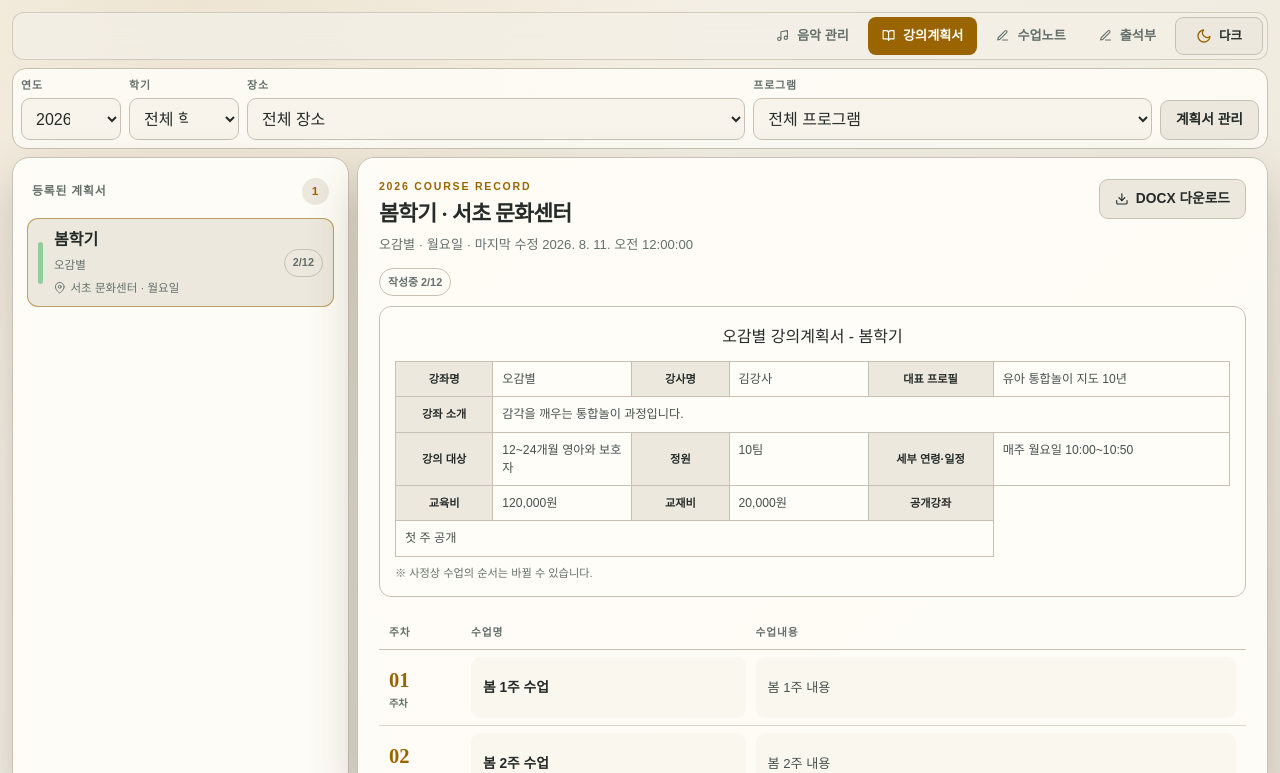
Test: LessonPlans › links a matching common note and previews its shared weeks
Expected: the heading "봄학기 · 서초 문화센터" is shown, x1=379 y1=202 x2=571 y2=226
Click the button "계획서 관리". click: (1209, 120)
box: x1=1160 y1=100 x2=1259 y2=140
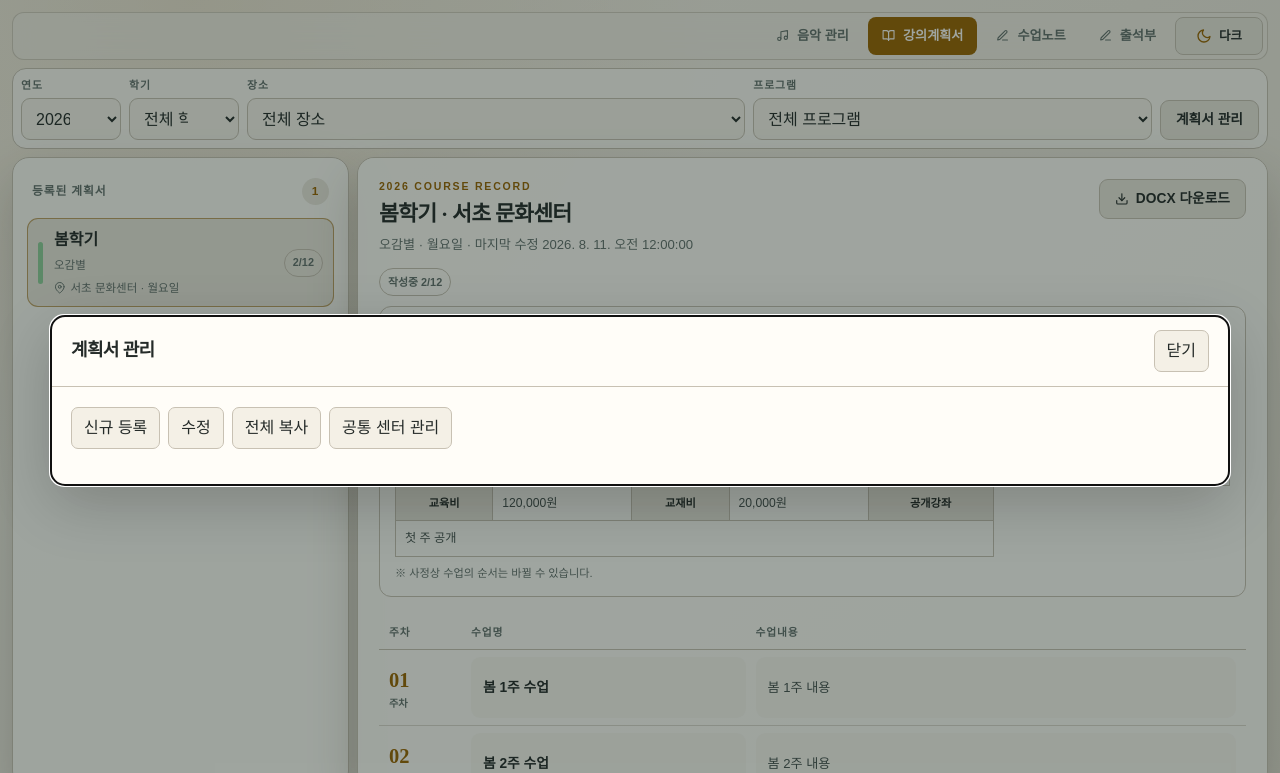
Click the button "수정". click: (196, 428)
box: x1=168 y1=406 x2=224 y2=448
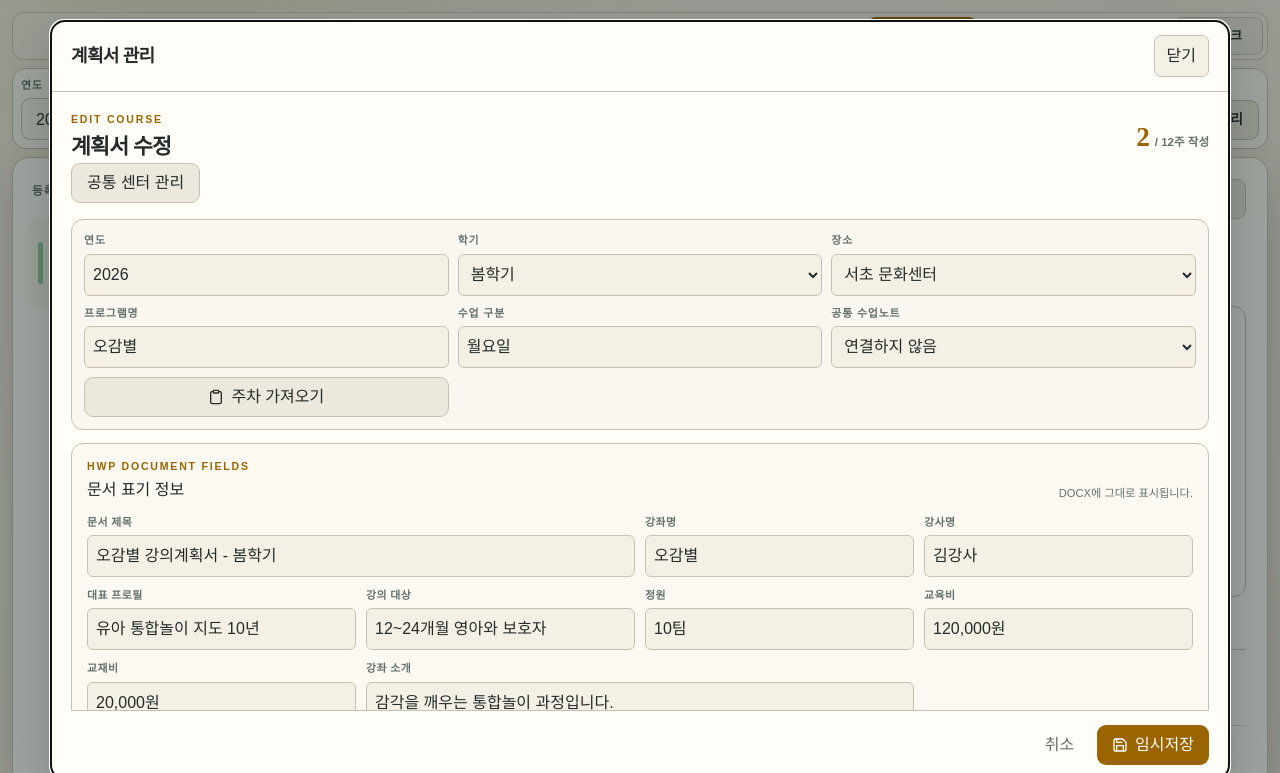
Select "2026년 봄학기 · 오감별" in the dropdown named "계획서 공통 수업노트". click: (1014, 347)
box: x1=831 y1=326 x2=1196 y2=368
(page scrolled)
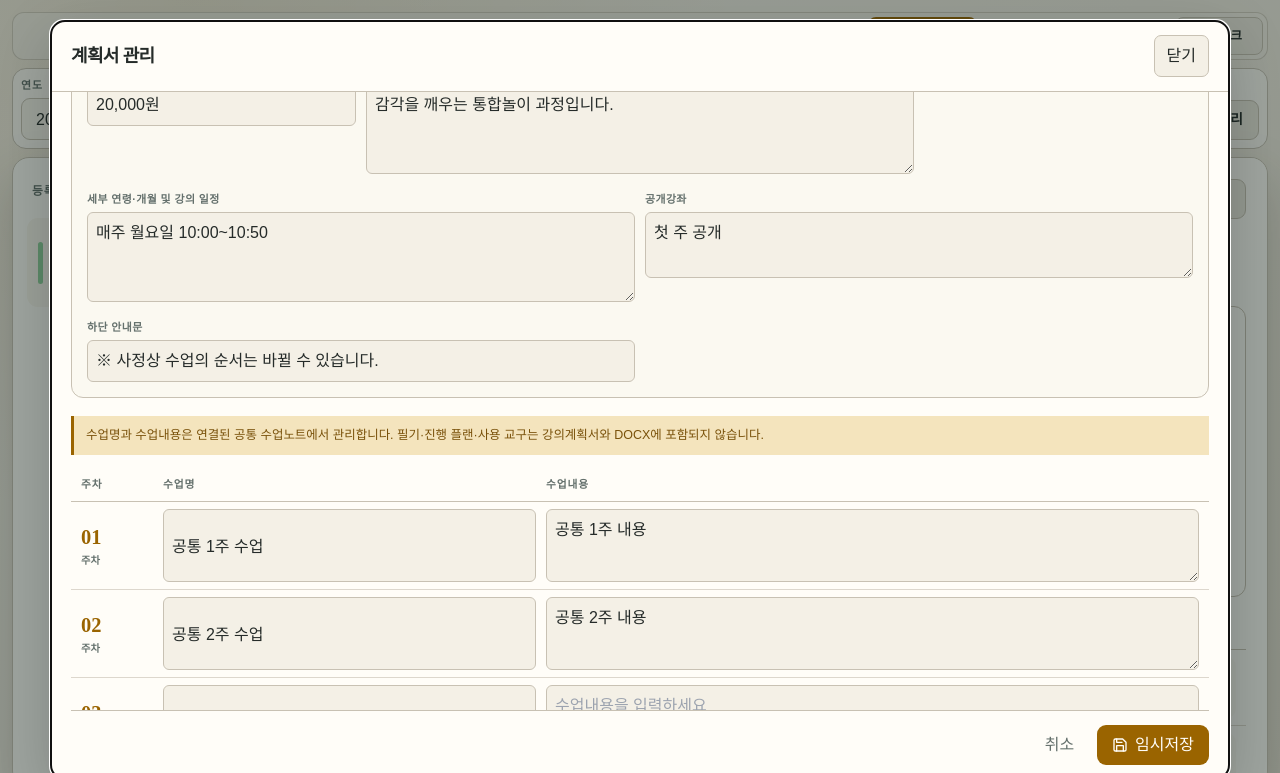
Expected: the field named "1주차 수업명" holds "공통 1주 수업", x1=163 y1=509 x2=536 y2=582
Expected: the field named "1주차 수업명" is disabled, x1=163 y1=509 x2=536 y2=582
Expected: the text "수업명과 수업내용은 연결된 공통 수업노트에서 관리" is shown, x1=86 y1=428 x2=764 y2=442
